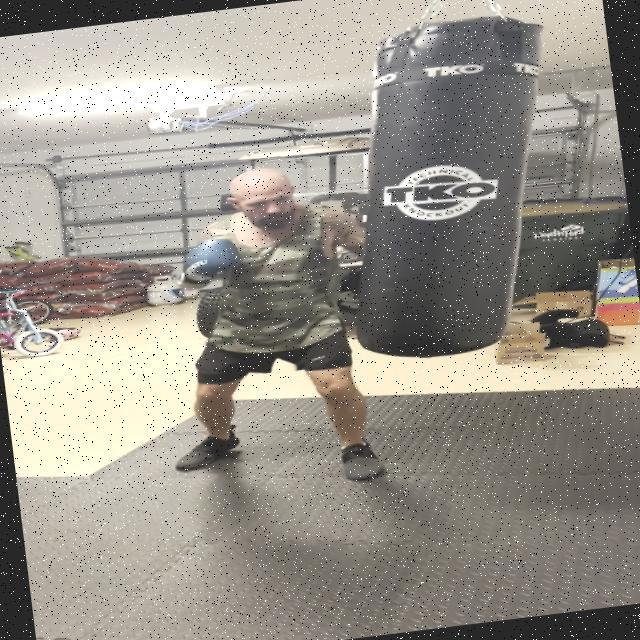bag: (353, 2, 570, 366)
hook: (160, 142, 393, 308)
